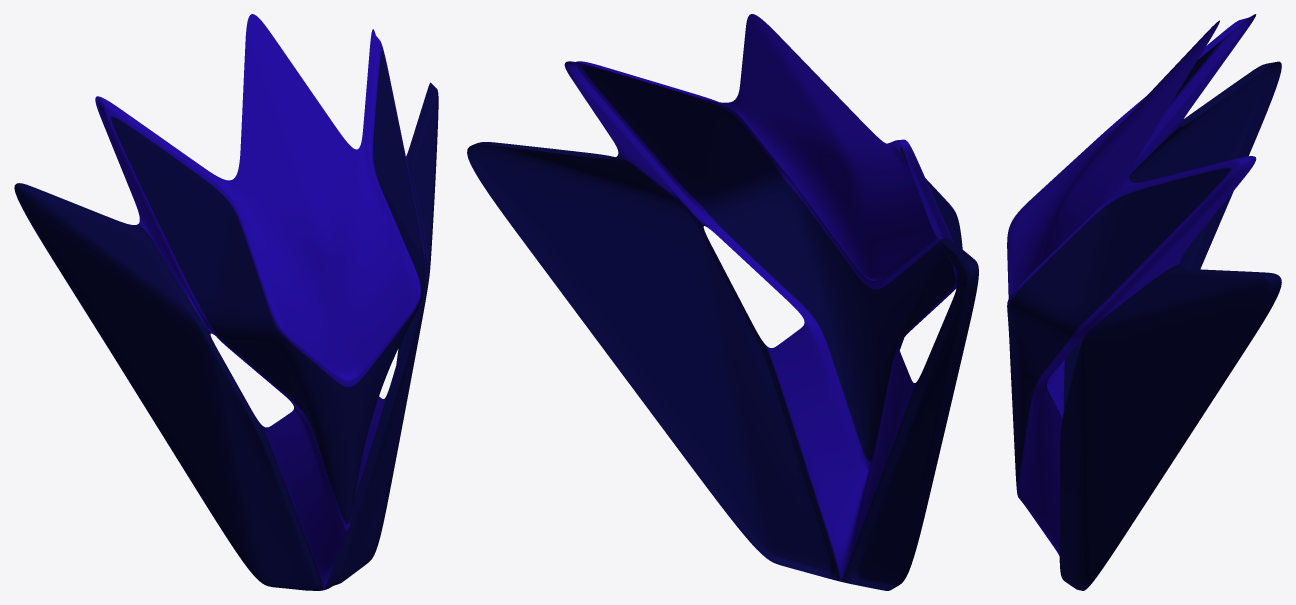
File: coremodel.glb
The picture shows the model from 3 angles, left to right: view 1: azimuth 30°, elevation 25°; view 2: azimuth 150°, elevation 25°; view 3: azimuth 270°, elevation 25°; orthographic projection. The views are drawn at different scales.
Parts seen in each view (by area): view 1: DronPro_Mask; view 2: DronPro_Mask; view 3: DronPro_Mask.
Boxes of the visible parts, x1=… form: DronPro_Mask: x1=14, y1=14, x2=438, y2=590; DronPro_Mask: x1=467, y1=14, x2=978, y2=590; DronPro_Mask: x1=1007, y1=14, x2=1281, y2=590.
Size of the model in its own units: 1.76 by 2.11 by 0.9437.
Materials: 1 (1 with a texture image).
